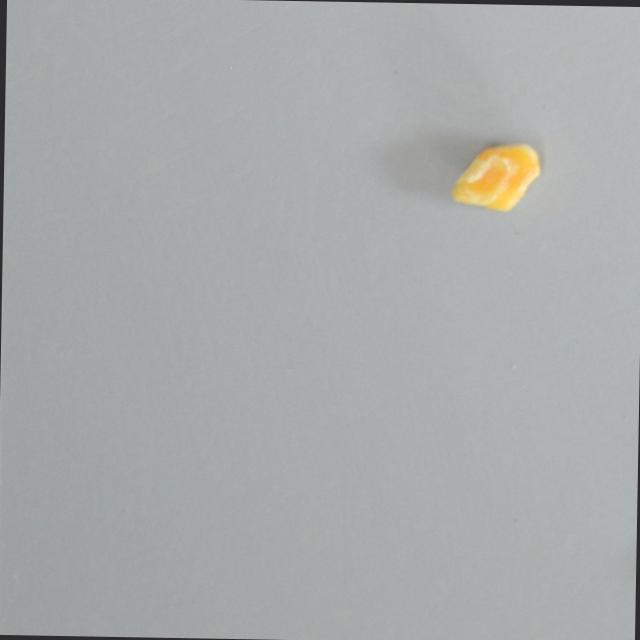dañado: (447, 136, 542, 215)
